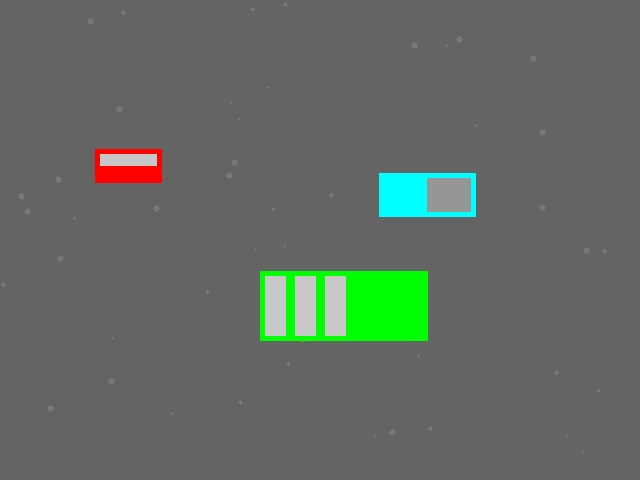bus: (260, 271, 427, 340)
car: (95, 149, 161, 182)
truck: (379, 173, 475, 216)
